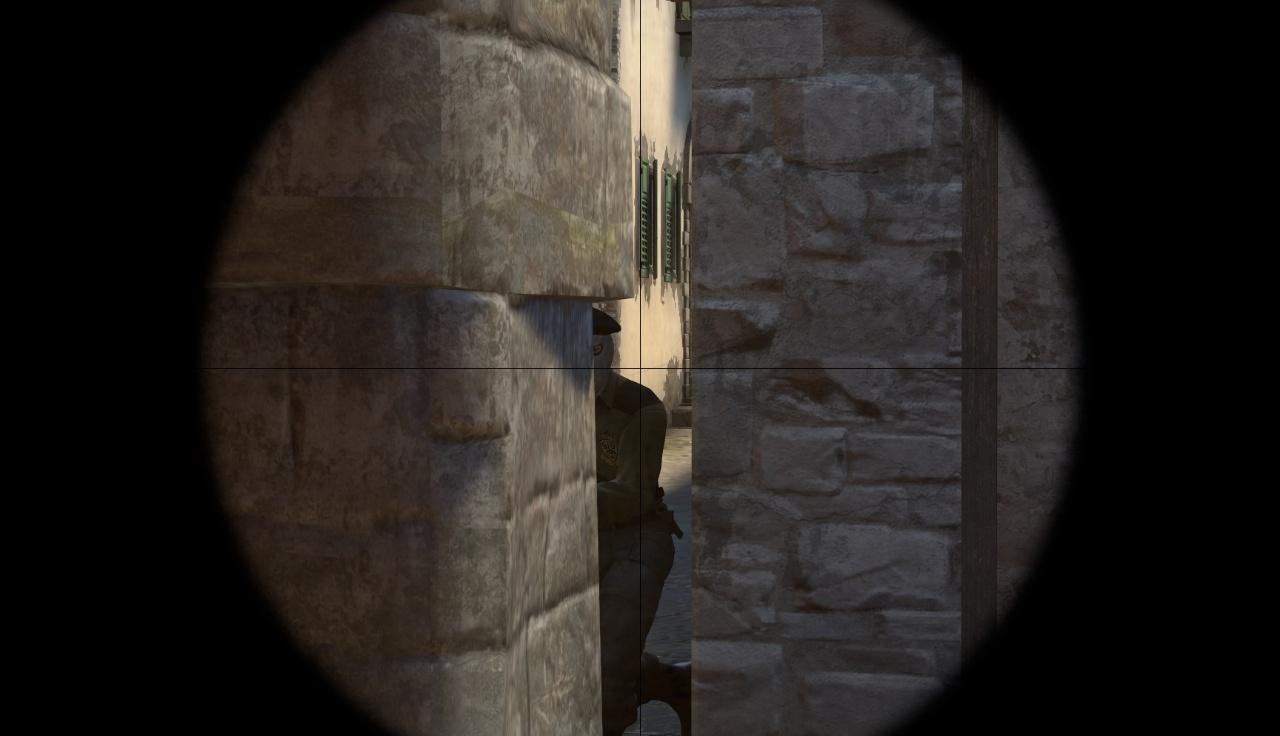tt: (595, 308, 678, 733)
tthead: (592, 307, 620, 394)
